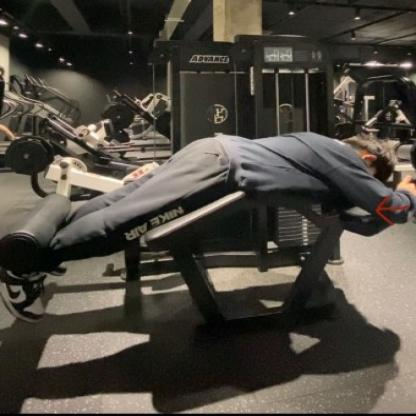reg curl machine: (0, 33, 416, 329)
